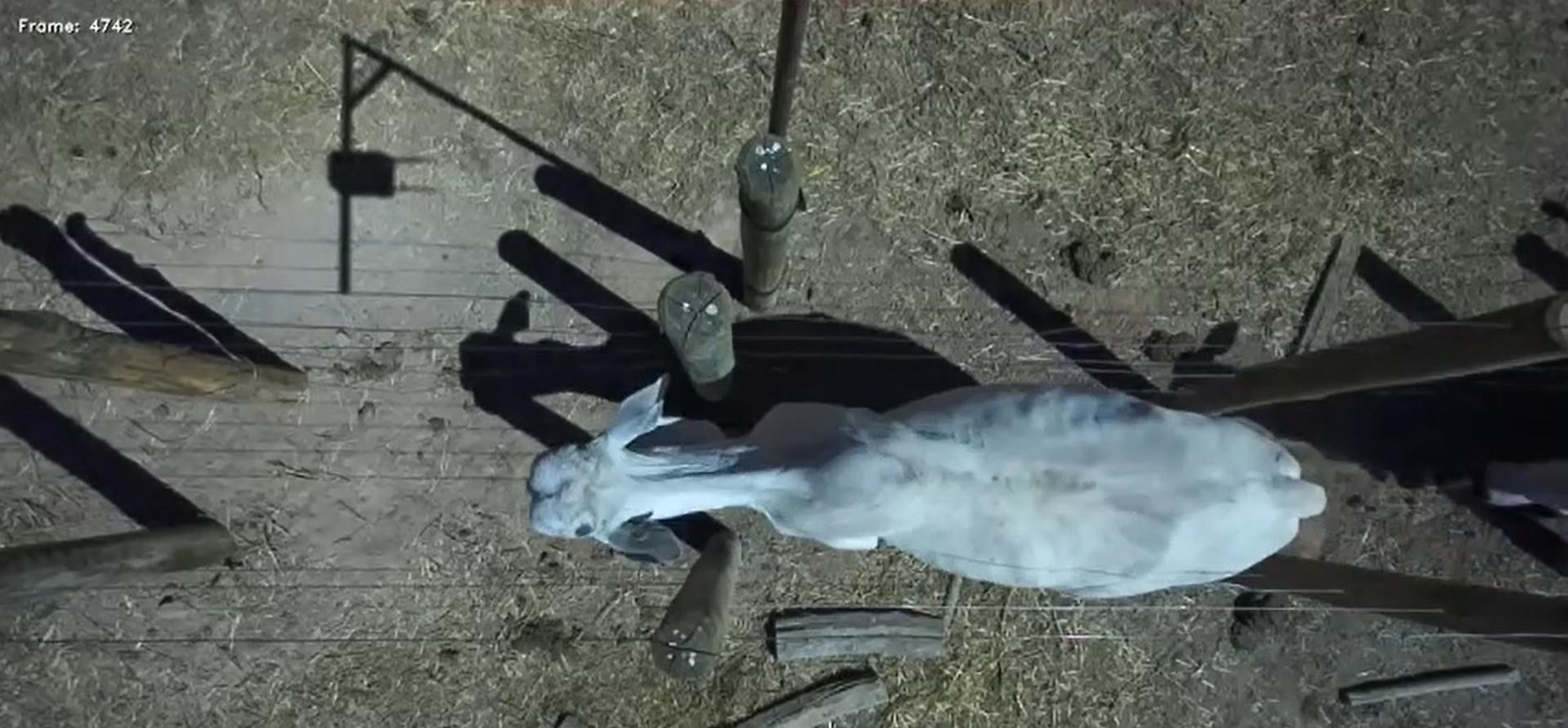cattle: (520, 363, 1341, 608)
